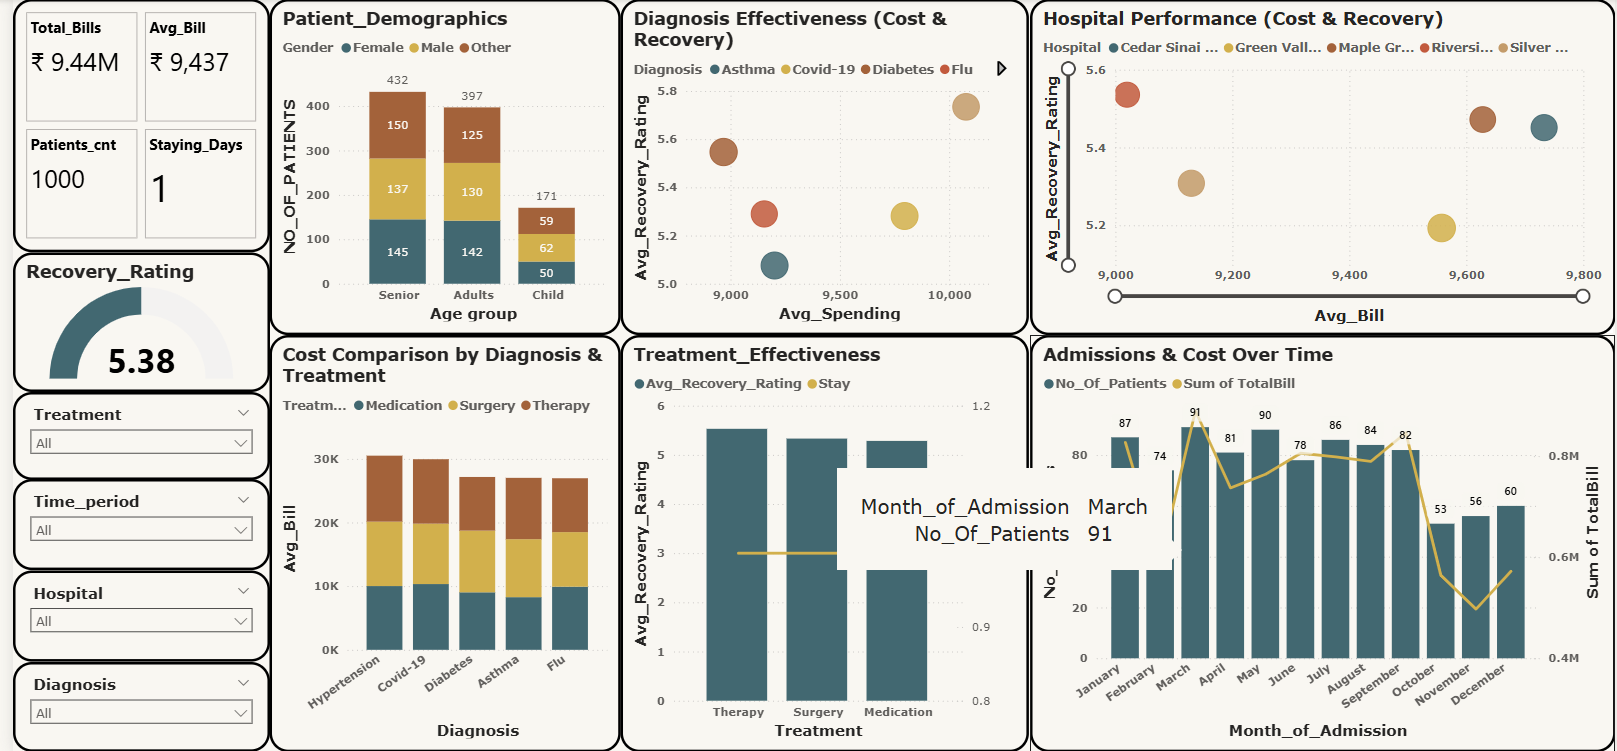

This screenshot's page, from the dashboard's own definition file:
{"tool":"powerbi","page":{"name":"Dashboad","canvas":[1700,800],"ordinal":1},"visuals":[{"type":"gauge","fields":{"Y":["Avg(hospital.RecoveryRating)"]},"box":[0,268.7,272.4,148.1],"z":0},{"type":"slicer","fields":{"Values":["hospital.Hospital"]},"box":[0,606.9,272.4,96.9],"z":1000},{"type":"columnChart","title":"Patient_Demographics","fields":{"Category":["patient.Age group"],"Y":["Count(patient.PatientID)"],"Series":["patient.Gender"]},"box":[272.4,0,372.9,356.5],"z":2000},{"type":"lineStackedColumnComboChart","title":"Cost Comparison by Diagnosis & Treatment","fields":{"Y":["Avg(patient.TotalBill)"],"Series":["patient.Treatment"],"Category":["patient.Diagnosis"]},"box":[272.4,356.5,372.9,442.4],"z":3000},{"type":"scatterChart","title":"Diagnosis Effectiveness (Cost & Recovery)","fields":{"X":["Avg(patient.TotalBill)"],"Y":["Avg(hospital.RecoveryRating)"],"Size":["CountNonNull(patient.PatientID)"],"Series":["patient.Diagnosis"]},"box":[645.3,0,433.2,356.5],"z":4000},{"type":"slicer","fields":{"Values":["patient.Treatment"]},"box":[0,416.8,272.4,93.2],"z":5000},{"type":"slicer","fields":{"Values":["patient.Diagnosis"]},"box":[0,703.8,272.4,95.1],"z":6000},{"type":"lineStackedColumnComboChart","title":"Admissions & Cost Over Time","fields":{"Category":["merged.Month_of_Admission"],"Y":["Count(patient.PatientID)"],"Y2":["Sum(patient.TotalBill)"]},"box":[1078.5,356.5,621.5,442.4],"z":7000},{"type":"slicer","fields":{"Values":["patient.AdmissionDate.Variation.Date Hierarchy.Year","patient.AdmissionDate.Variation.Date Hierarchy.Quarter","patient.AdmissionDate.Variation.Date Hierarchy.Month","patient.AdmissionDate.Variation.Date Hierarchy.Day"]},"box":[0,510,272.4,96.9],"z":8000},{"type":"scatterChart","title":"Hospital Performance (Cost & Recovery)","fields":{"X":["Avg(patient.TotalBill)"],"Y":["Avg(hospital.RecoveryRating)"],"Series":["hospital.Hospital"],"Size":["Count(hospital.PatientID)"]},"box":[1078.5,0,621.5,356.5],"z":9000},{"type":"lineStackedColumnComboChart","title":"Treatment_Effectiveness","fields":{"Category":["patient.Treatment"],"Y":["Avg(hospital.RecoveryRating)"],"Y2":["Avg(patient.LengthOfStay)"]},"box":[645.3,356.5,433.2,442.4],"z":10000},{"type":"cardVisual","fields":{"Data":["Sum(patient.TotalBill)","Avg(patient.TotalBill)","Count(patient.PatientID)","Avg(patient.LengthOfStay)"]},"box":[0,0,272.4,268.7],"z":11000}]}

Visuals, with their boxes in screenshot pixels (x1, y1, x2, y2), scaled from the page's 1700x800 canvas onto the 1617x751 screenshot:
gauge - Avg(hospital.RecoveryRating): <bbox>0, 252, 259, 391</bbox>
slicer - hospital.Hospital: <bbox>0, 570, 259, 661</bbox>
"Patient_Demographics" columnChart: <bbox>259, 0, 614, 335</bbox>
"Cost Comparison by Diagnosis & Treatment" lineStackedColumnComboChart: <bbox>259, 335, 614, 750</bbox>
"Diagnosis Effectiveness (Cost & Recovery)" scatterChart: <bbox>614, 0, 1026, 335</bbox>
slicer - patient.Treatment: <bbox>0, 391, 259, 479</bbox>
slicer - patient.Diagnosis: <bbox>0, 661, 259, 750</bbox>
"Admissions & Cost Over Time" lineStackedColumnComboChart: <bbox>1026, 335, 1616, 750</bbox>
slicer - patient.AdmissionDate.Variation.Date Hierarchy.Year x patient.AdmissionDate.Variation.Date Hierarchy.Quarter: <bbox>0, 479, 259, 570</bbox>
"Hospital Performance (Cost & Recovery)" scatterChart: <bbox>1026, 0, 1616, 335</bbox>
"Treatment_Effectiveness" lineStackedColumnComboChart: <bbox>614, 335, 1026, 750</bbox>
cardVisual - Sum(patient.TotalBill) x Avg(patient.TotalBill): <bbox>0, 0, 259, 252</bbox>
